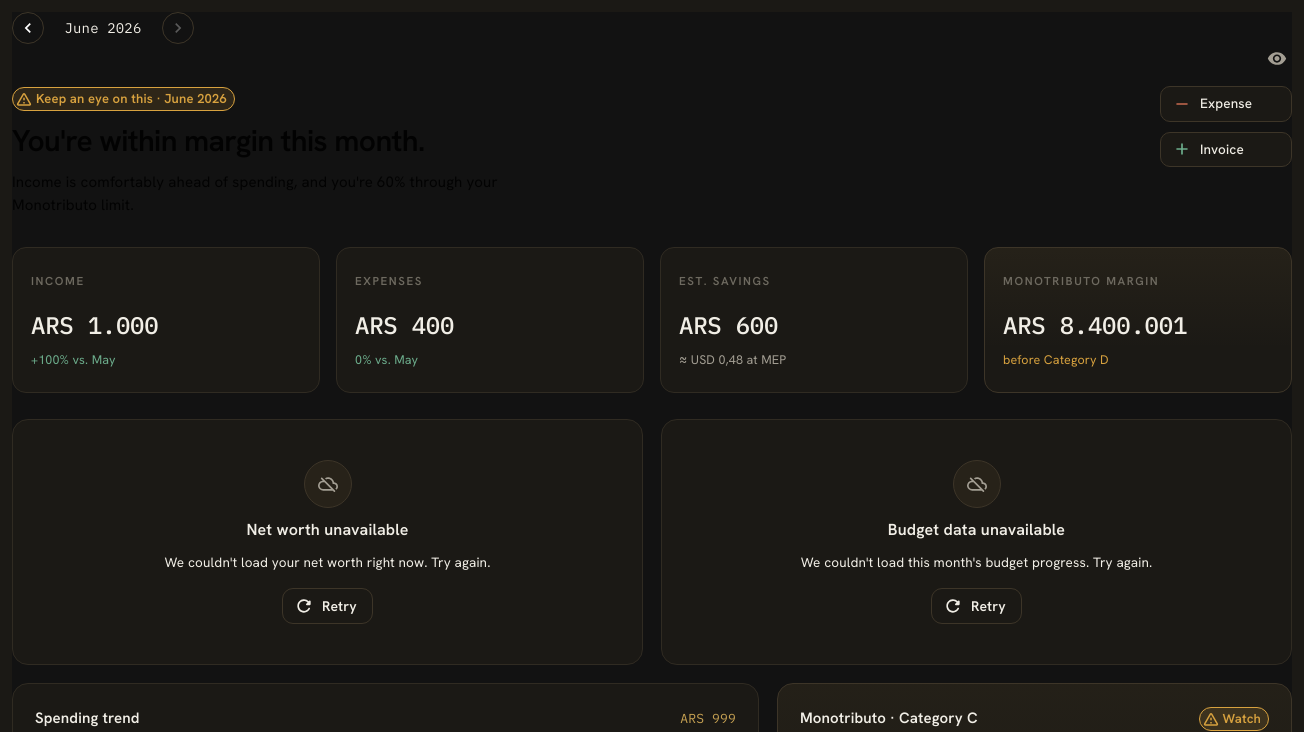
Scenario: the privacy toggle masks the headline figures and persists to localStorage
The width and height of the screenshot is (1304, 732).
Expected: the text "Keep an eye on this · June 2026" is shown, [29, 89, 234, 108]
Expected: the text "Income" is shown, [31, 273, 85, 288]
Flip the toggle on.
Click the button named "Hide amounts" at (1277, 59), box [1262, 44, 1292, 74]
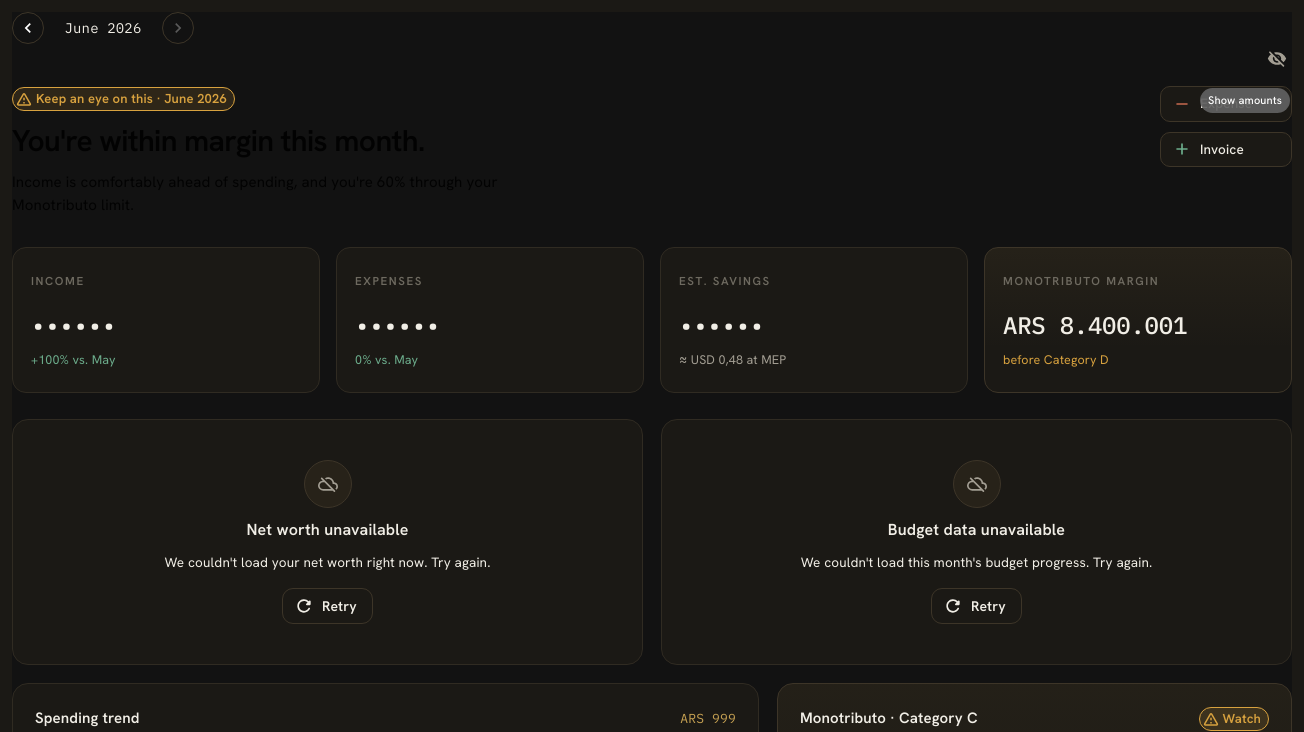
Now the 1st text "••••••" is shown, box [31, 309, 116, 341]
Now the 2nd text "••••••" is shown, box [355, 309, 440, 341]
Now the text "••••••" below "Est. savings" is shown, box [679, 309, 764, 341]
Toggling off is instant (values were still fetched) and clears the key.
Click the button named "Show amounts" at (1277, 59), box [1262, 44, 1292, 74]
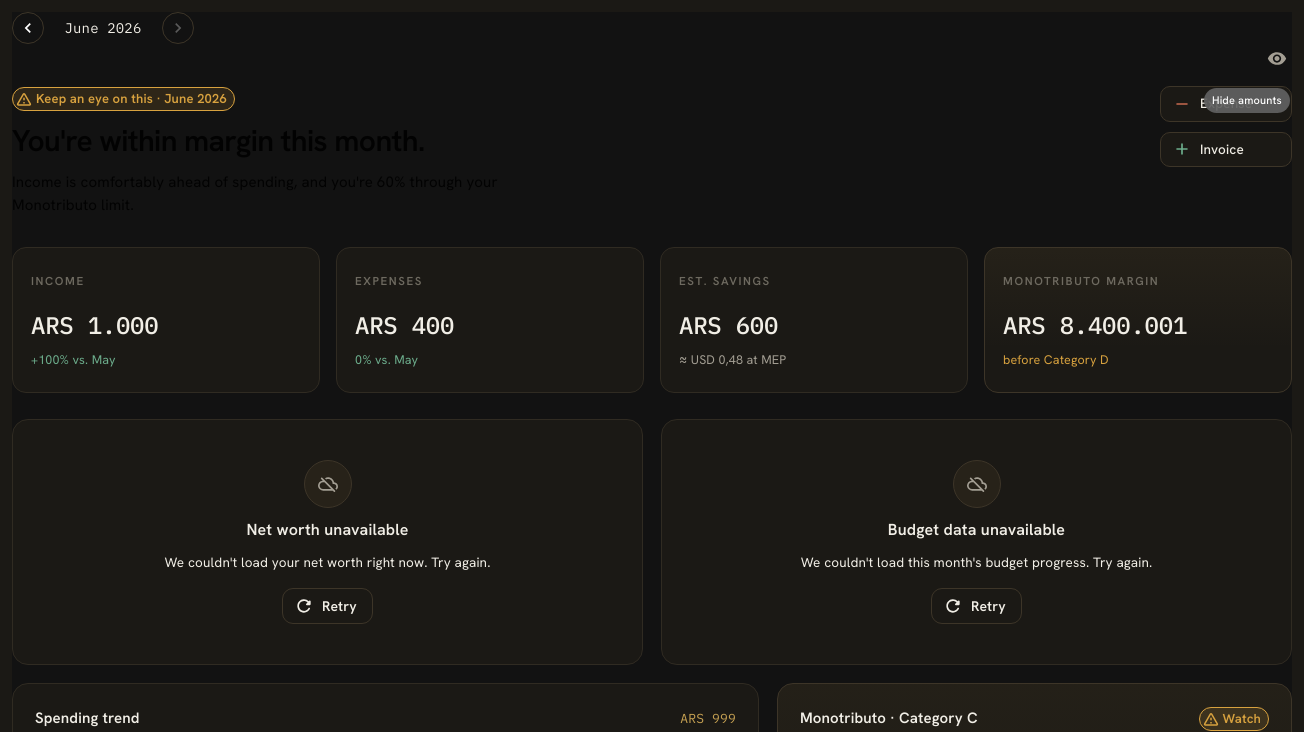
Now the text "ARS 1.000" is shown, box [31, 309, 158, 341]
